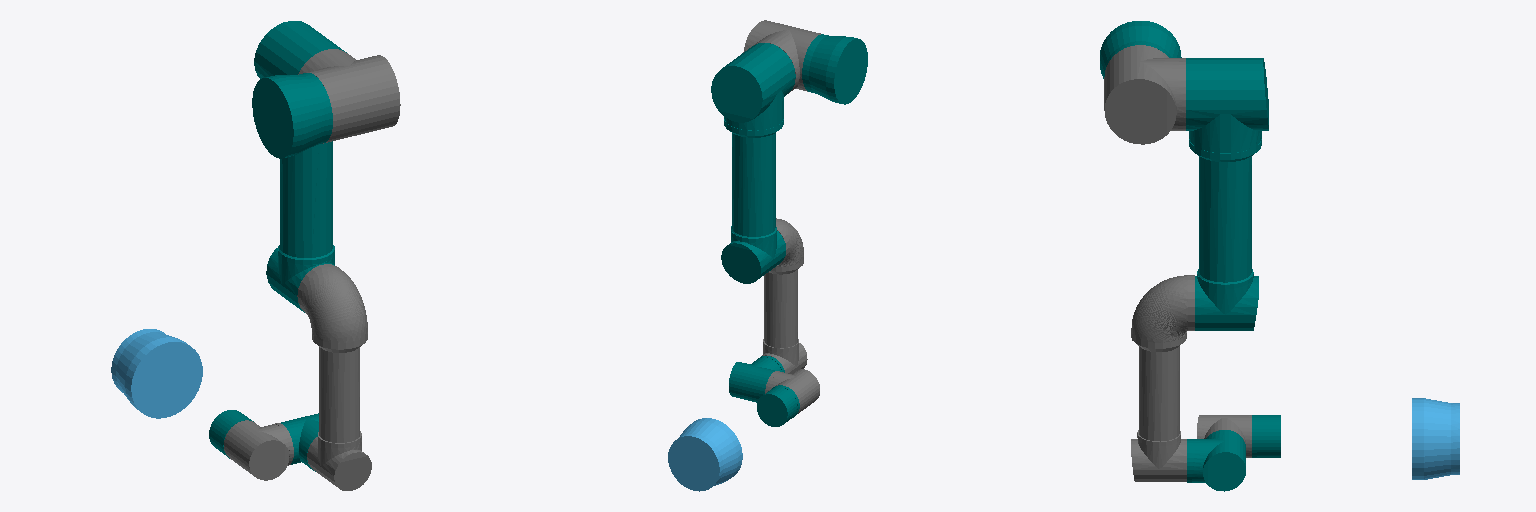
URDF robot description (or_ur):
<?xml version="1.0" ?>
<!-- =================================================================================== -->
<!-- |    This document was autogenerated by xacro from ur16_bosch_openrave.xacro      | -->
<!-- |    EDITING THIS FILE BY HAND IS NOT RECOMMENDED                                 | -->
<!-- =================================================================================== -->
<robot name="or_ur"
  xmlns:xacro="http://ros.org/wiki/xacro">
  <gazebo>
    <plugin filename="libgazebo_ros_control.so" name="ros_control">
      <!--robotNamespace>/</robotNamespace-->
      <!--robotSimType>gazebo_ros_control/DefaultRobotHWSim</robotSimType-->
    </plugin>
    <!--
    <plugin name="gazebo_ros_power_monitor_controller" filename="libgazebo_ros_power_monitor.so">
      <alwaysOn>true</alwaysOn>
      <updateRate>1.0</updateRate>
      <timeout>5</timeout>
      <powerStateTopic>power_state</powerStateTopic>
      <powerStateRate>10.0</powerStateRate>
      <fullChargeCapacity>87.78</fullChargeCapacity>     
      <dischargeRate>-474</dischargeRate>
      <chargeRate>525</chargeRate>
      <dischargeVoltage>15.52</dischargeVoltage>
      <chargeVoltage>16.41</chargeVoltage>
    </plugin>
-->
  </gazebo>
  <link name="chisel_base_link">
    <inertial>
      <origin rpy="0 0 0" xyz="1.1489E-34 -1.646E-16 0.046885"/>
      <mass value="5.438"/>
      <inertia ixx="0.013275" ixy="8.9258E-35" ixz="3.0589E-20" iyy="0.013275" iyz="-1.5807E-17" izz="0.017725"/>
    </inertial>
    <visual>
      <origin rpy="0 0 0" xyz="0 0 0"/>
      <geometry>
        <mesh filename="package://ur16e_description/meshes/base_link.STL"/>
      </geometry>
      <material name="chisel_">
        <color rgba="0 0.5 0.5 1"/>
      </material>
    </visual>
    <collision>
      <origin rpy="0 0 0" xyz="0 0 0"/>
      <geometry>
        <mesh filename="package://ur16e_description/meshes/base_link.STL"/>
      </geometry>
    </collision>
  </link>
  <link name="chisel_shoulder_link">
    <inertial>
      <origin rpy="0 0 0" xyz="-1.5245E-08 0.012594 0.0014894"/>
      <mass value="9.4377"/>
      <inertia ixx="0.038911" ixy="8.8912E-10" ixz="5.0205E-09" iyy="0.034442" iyz="-0.00033385" izz="0.032728"/>
    </inertial>
    <visual>
      <origin rpy="0 0 0" xyz="0 0 -0.181"/>
      <geometry>
        <mesh filename="package://ur16e_description/meshes/shoulder_link.STL"/>
      </geometry>
      <material name="chisel_">
        <color rgba="0.5 0.5 0.5 1"/>
      </material>
    </visual>
    <collision>
      <origin rpy="0 0 0" xyz="0 0 -0.181"/>
      <geometry>
        <mesh filename="package://ur16e_description/meshes/shoulder_link.STL"/>
      </geometry>
    </collision>
  </link>
  <joint name="chisel_shoulder_pan_joint" type="revolute">
    <origin rpy="0 0 0" xyz="0 0 0.181"/>
    <parent link="chisel_base_link"/>
    <child link="chisel_shoulder_link"/>
    <axis xyz="0 0 1"/>
    <limit effort="150.0" lower="-6.28" upper="6.28" velocity="3.14"/>
  </joint>
  <link name="chisel_upper_arm_link">
    <inertial>
      <origin rpy="0 0 0" xyz="-1.3872E-08 0.00081804 0.18812"/>
      <mass value="22.37"/>
      <inertia ixx="0.78628" ixy="3.8039E-08" ixz="9.7631E-08" iyy="0.77849" iyz="0.002245" izz="0.058581"/>
    </inertial>
    <visual>
      <origin rpy="0 0 0" xyz="0 -0.176 -0.181"/>
      <geometry>
        <mesh filename="package://ur16e_description/meshes/upper_arm_link.STL"/>
      </geometry>
      <material name="chisel_">
        <color rgba="0 0.5 0.5 1"/>
      </material>
    </visual>
    <collision>
      <origin rpy="0 0 0" xyz="0 -0.176 -0.181"/>
      <geometry>
        <mesh filename="package://ur16e_description/meshes/upper_arm_link.STL"/>
      </geometry>
    </collision>
  </link>
  <joint name="chisel_shoulder_lift_joint" type="revolute">
    <origin rpy="0 1.5708 0" xyz="0 0.176 0"/>
    <!-- edited to fix 0 deg config, was 0 0 0  -->
    <parent link="chisel_shoulder_link"/>
    <child link="chisel_upper_arm_link"/>
    <axis xyz="0 1 0"/>
    <limit effort="150.0" lower="-6.28" upper="6.28" velocity="3.14"/>
  </joint>
  <link name="chisel_forearm_link">
    <inertial>
      <origin rpy="0 0 0" xyz="-1.2814E-07 0.0067539 0.16344"/>
      <mass value="9.3652"/>
      <inertia ixx="0.18612" ixy="5.431E-07" ixz="-2.0071E-07" iyy="0.18373" iyz="0.0098497" izz="0.014157"/>
    </inertial>
    <visual>
      <origin rpy="0 0 0" xyz="0 -0.0388 -0.6605"/>
      <geometry>
        <mesh filename="package://ur16e_description/meshes/lower_arm_link.STL"/>
      </geometry>
      <material name="chisel_">
        <color rgba="0.5 0.5 0.5 1"/>
      </material>
    </visual>
    <collision>
      <origin rpy="0 0 0" xyz="0 -0.0388 -0.6605"/>
      <geometry>
        <mesh filename="package://ur16e_description/meshes/lower_arm_link.STL"/>
      </geometry>
    </collision>
  </link>
  <joint name="chisel_elbow_joint" type="revolute">
    <origin rpy="0 0 0" xyz="0 -0.1372 0.4784"/>
    <parent link="chisel_upper_arm_link"/>
    <child link="chisel_forearm_link"/>
    <axis xyz="0 1 0"/>
    <limit effort="150.0" lower="-6.28" upper="6.28" velocity="3.14"/>
  </joint>
  <link name="chisel_wrist_1_link">
    <inertial>
      <origin rpy="0 0 0" xyz="-5.602E-08 0.11949 0.0011483"/>
      <mass value="2.5949"/>
      <inertia ixx="0.0050155" ixy="-6.6962E-10" ixz="-6.2086E-09" iyy="0.0036588" iyz="-0.00010442" izz="0.0041213"/>
    </inertial>
    <visual>
      <origin rpy="0 0 0" xyz="0 -0.0388 -1.0194"/>
      <geometry>
        <mesh filename="package://ur16e_description/meshes/wrist_1_link.STL"/>
      </geometry>
      <material name="chisel_">
        <color rgba="0 0.5 0.5 1"/>
      </material>
    </visual>
    <collision>
      <origin rpy="0 0 0" xyz="0 -0.0388 -1.0194"/>
      <geometry>
        <mesh filename="package://ur16e_description/meshes/wrist_1_link.STL"/>
      </geometry>
    </collision>
  </link>
  <joint name="chisel_wrist_1_joint" type="revolute">
    <origin rpy="0 1.5708 0" xyz="0 0 0.36"/>
    <!-- edited to fix 0 deg config, was 0 0 0  -->
    <parent link="chisel_forearm_link"/>
    <child link="chisel_wrist_1_link"/>
    <axis xyz="0 1 0"/>
    <limit effort="150.0" lower="-6.28" upper="6.28" velocity="3.14"/>
  </joint>
  <link name="chisel_wrist_2_link">
    <inertial>
      <origin rpy="0 0 0" xyz="4.6306E-08 0.0012823 0.1101"/>
      <mass value="2.3235"/>
      <inertia ixx="0.0039588" ixy="6.2628E-09" ixz="1.2947E-09" iyy="0.003065" iyz="-8.5307E-05" izz="0.0033836"/>
    </inertial>
    <visual>
      <origin rpy="0 0 0" xyz="0 -0.17415 -1.0194"/>
      <geometry>
        <mesh filename="package://ur16e_description/meshes/wrist_2_link.STL"/>
      </geometry>
      <material name="chisel_">
        <color rgba="0.5 0.5 0.5 1"/>
      </material>
    </visual>
    <collision>
      <origin rpy="0 0 0" xyz="0 -0.17415 -1.0194"/>
      <geometry>
        <mesh filename="package://ur16e_description/meshes/wrist_2_link.STL"/>
      </geometry>
    </collision>
  </link>
  <joint name="chisel_wrist_2_joint" type="revolute">
    <origin rpy="0 0 0" xyz="0 0.13535 0"/>
    <parent link="chisel_wrist_1_link"/>
    <child link="chisel_wrist_2_link"/>
    <axis xyz="0 0 1"/>
    <limit effort="150.0" lower="-6.28" upper="6.28" velocity="3.14"/>
  </joint>
  <link name="chisel_wrist_3_link">
    <inertial>
      <origin rpy="0 0 0" xyz="-6.798E-19 0.086857 -2.2204E-16"/>
      <mass value="1.0362"/>
      <inertia ixx="0.0008397" ixy="1.6187E-21" ixz="-4.4721E-35" iyy="0.0010531" iyz="-5.841E-19" izz="0.0008397"/>
    </inertial>
    <visual>
      <origin rpy="0 0 0" xyz="0 -0.17415 -1.13895"/>
      <geometry>
        <mesh filename="package://ur16e_description/meshes/wrist_3_link.STL"/>
      </geometry>
      <material name="chisel_">
        <color rgba="0 0.5 0.5 1"/>
      </material>
    </visual>
    <collision>
      <origin rpy="0 0 0" xyz="0 -0.17415 -1.13895"/>
      <geometry>
        <mesh filename="package://ur16e_description/meshes/wrist_3_link.STL"/>
      </geometry>
    </collision>
  </link>
  <joint name="chisel_wrist_3_joint" type="revolute">
    <origin rpy="0 0 0" xyz="0 0 0.11955"/>
    <parent link="chisel_wrist_2_link"/>
    <child link="chisel_wrist_3_link"/>
    <axis xyz="0 1 0"/>
    <limit effort="150.0" lower="-6.28" upper="6.28" velocity="3.14"/>
  </joint>
  <!-- <link name="chisel_dummy_sensor_link">
    <inertial>
      <origin rpy="0 0 0" xyz="0 -0.01875 0"/>
      <mass value="0.16567"/>
      <inertia ixx="7.7658E-05" ixy="-3.0306E-37" ixz="6.3554E-37" iyy="0.00011649" iyz="0" izz="7.7658E-05"/>
    </inertial>
    <visual>
      <origin rpy="0 0 0" xyz="0 -0.32865 -1.13895"/>
      <geometry>
        <mesh filename="package://ur16e_description/meshes/dummy_sensor_link.STL"/>
      </geometry>
      <material name="chisel_">
        <color rgba="0.7 0 0 1"/>
      </material>
    </visual>
    <collision>
      <origin rpy="0 0 0" xyz="0 -0.32865 -1.13895"/>
      <geometry>
        <mesh filename="package://ur16e_description/meshes/dummy_sensor_link.STL"/>
      </geometry>
    </collision>
  </link>
  <joint name="chisel_sensor_mount_fixed" type="fixed">
    <origin rpy="0 0 0" xyz="0 0.1545 0"/>
    <parent link="chisel_wrist_3_link"/>
    <child link="chisel_dummy_sensor_link"/>
    <axis xyz="0 1 0"/>
  </joint> -->
  <link name="chisel_tool0">
    <inertial>
      <origin rpy="0 0 0" xyz="0 -0.01875 0"/>
      <mass value="0.1"/>
      <inertia ixx="1.1E-05" ixy="-3.0306E-37" ixz="6.3554E-37" iyy="1.1E-05" iyz="0" izz="1.1E-05"/>
    </inertial>
  </link>
  <joint name="chisel_wrist_3_link-tool0_fixed_joint" type="fixed">
    <!-- <origin rpy="-1.57079632679 0 0" xyz="0 0.1545 0"/> -->
    <origin rpy="-1.57079632679 0 0" xyz="0 0.1545 0"/>
    <parent link="chisel_wrist_3_link"/>
    <child link="chisel_tool0"/>
  </joint>
  <transmission name="chisel_shoulder_pan_trans">
    <type>transmission_interface/SimpleTransmission</type>
    <joint name="chisel_shoulder_pan_joint">
      <hardwareInterface>hardware_interface/PositionJointInterface</hardwareInterface>
    </joint>
    <actuator name="chisel_shoulder_pan_motor">
      <mechanicalReduction>1</mechanicalReduction>
    </actuator>
  </transmission>
  <transmission name="chisel_shoulder_lift_trans">
    <type>transmission_interface/SimpleTransmission</type>
    <joint name="chisel_shoulder_lift_joint">
      <hardwareInterface>hardware_interface/PositionJointInterface</hardwareInterface>
    </joint>
    <actuator name="chisel_shoulder_lift_motor">
      <mechanicalReduction>1</mechanicalReduction>
    </actuator>
  </transmission>
  <transmission name="chisel_elbow_trans">
    <type>transmission_interface/SimpleTransmission</type>
    <joint name="chisel_elbow_joint">
      <hardwareInterface>hardware_interface/PositionJointInterface</hardwareInterface>
    </joint>
    <actuator name="chisel_elbow_motor">
      <mechanicalReduction>1</mechanicalReduction>
    </actuator>
  </transmission>
  <transmission name="chisel_wrist_1_trans">
    <type>transmission_interface/SimpleTransmission</type>
    <joint name="chisel_wrist_1_joint">
      <hardwareInterface>hardware_interface/PositionJointInterface</hardwareInterface>
    </joint>
    <actuator name="chisel_wrist_1_motor">
      <mechanicalReduction>1</mechanicalReduction>
    </actuator>
  </transmission>
  <transmission name="chisel_wrist_2_trans">
    <type>transmission_interface/SimpleTransmission</type>
    <joint name="chisel_wrist_2_joint">
      <hardwareInterface>hardware_interface/PositionJointInterface</hardwareInterface>
    </joint>
    <actuator name="chisel_wrist_2_motor">
      <mechanicalReduction>1</mechanicalReduction>
    </actuator>
  </transmission>
  <transmission name="chisel_wrist_3_trans">
    <type>transmission_interface/SimpleTransmission</type>
    <joint name="chisel_wrist_3_joint">
      <hardwareInterface>hardware_interface/PositionJointInterface</hardwareInterface>
    </joint>
    <actuator name="chisel_wrist_3_motor">
      <mechanicalReduction>1</mechanicalReduction>
    </actuator>
  </transmission>
  <gazebo reference="chisel_shoulder_link">
    <selfCollide>true</selfCollide>
  </gazebo>
  <gazebo reference="chisel_upper_arm_link">
    <selfCollide>true</selfCollide>
  </gazebo>
  <gazebo reference="chisel_forearm_link">
    <selfCollide>true</selfCollide>
  </gazebo>
  <gazebo reference="chisel_wrist_1_link">
    <selfCollide>true</selfCollide>
  </gazebo>
  <gazebo reference="chisel_wrist_3_link">
    <selfCollide>true</selfCollide>
  </gazebo>
  <gazebo reference="chisel_wrist_2_link">
    <selfCollide>true</selfCollide>
  </gazebo>
  <gazebo reference="chisel_ee_link">
    <selfCollide>true</selfCollide>
  </gazebo>
  <!-- ROS base_link to UR 'Base' Coordinates transform -->
  <link name="chisel_base"/>
  <joint name="chisel_base_link-base_fixed_joint" type="fixed">
    <!-- NOTE: this rotation is only needed as long as base_link itself is
                not corrected wrt the real robot (ie: rotated over 180
                degrees)
    -->
    <origin rpy="0.0 1.5707963267948966 0.0" xyz="0 0 0"/>

    <parent link="chisel_base"/>
    <child link="chisel_base_link"/>
  </joint>
  <!-- attach to tool0  directions: z-pointed towards tool tip, y is "up", x is "out"-->
  <!-- <joint name="chisel_makita_fixed_joint" type="fixed">
    <parent link="chisel_tool0"/>
    <child link="chisel_makita_link"/> -->
  <!-- <origin xyz="0.0 0.0 0.0" rpy="1.57 0.0 3.14" /> -->
  <!-- </joint> -->
  <!-- <link name="chisel_makita_link">
    <visual name="visual">
      <geometry>
        <mesh filename="package://bot_digger_description/meshes/20210408Bosch_top45camera.STL"/>
      </geometry>
      <origin rpy="0.0 0 0.0" xyz="0 0.0 0.0"/>
    </visual>
    <collision>
      <geometry>
        <mesh filename="package://bot_digger_description/meshes/20210408Bosch_top45camera.STL"/>
      </geometry>
      <origin rpy="0.0 0 0.0" xyz="0.0 0.0 0.0"/>
    </collision>
  </link> -->

  <link name="chisel_chisel_link">
    <inertial>
      <mass value="12.6"/>
      <origin rpy="0 0 0" xyz="0.0 0.0 0.0"/>
      <inertia ixx="0.38" ixy="0.0" ixz="0.0" iyy="0.35" iyz="-0.02" izz="0.05"/>
    </inertial>
    <visual name="visual">
      <geometry>
        <mesh filename="package://ur16e_description/meshes/base_link.STL"/>
      </geometry>
      <origin rpy="0 0 0" xyz="0 0 0"/>
    </visual>
    <collision>
      <geometry>
        <mesh filename="package://ur16e_description/meshes/base_link.STL"/>
      </geometry>
      <origin rpy="0 0 0" xyz="0 0 0"/>
    </collision>

  </link>
  <joint name="chisel_chisel_fixed_joint" type="fixed">
    <parent link="chisel_tool0"/>
    <child link="chisel_chisel_link"/>
    <origin rpy="0.0 0.0 0" xyz="0.0 0.013 0.235"/>
  </joint>

  <!-- 
  <joint name="chisel_rock_fixed_joint" type="fixed">
    <parent link="chisel_chisel_link"/>
    <child link="chisel_rock_link"/>
    <origin rpy="0.0 0.0 0" xyz="0.0 0.0 0.1"/>
  </joint>
  <link name="chisel_rock_link">
    <visual name="visual">
      <geometry>
        <cylinder length="0.28" radius="0.015"/>
      </geometry>
      <material name="LightGrey">
        <color rgba="0.7 0.7 0.7 1.0"/>
      </material>
      <origin rpy="0 0 0" xyz="0 0 0.12"/>
    </visual>
    <collision>
      <geometry>
        <cylinder length="0.28" radius="0.015"/>
      </geometry>
      <origin rpy="0 0 0" xyz="0 0 0.12"/>
    </collision>
    <inertial>
      <mass value="30.0"/>
      <origin rpy="0 0 0" xyz="0.0 0.0 0.12"/>
      <inertia ixx="1.0" ixy="0.0" ixz="0.0" iyy="1.0" iyz="0.0" izz="1.0"/>
    </inertial>
  </link> -->

  <joint name="chisel_tip_fixed_joint" type="fixed">
    <parent link="chisel_chisel_link"/>
    <child link="chisel_tip_link"/>
    <origin rpy="0.0 0.0 0" xyz="0 -0.013 0.576"/>
  </joint>
  <!-- frame directions: z along rotation axis, x out top of drill, y out side of drill -->
  <link name="chisel_tip_link">
    <inertial>
      <mass value="0.1"/>
      <origin rpy="0 0 0" xyz="0.0 0.0 0.0"/>
      <inertia ixx="0.01" ixy="0.0" ixz="0.0" iyy="0.01" iyz="0.0" izz="0.01"/>
    </inertial>
    <collision>
      <geometry>
        <box size="0.01 0.01 0.01"/>
      </geometry>
      <origin rpy="0 0 0" xyz="0 0 0.0"/>
    </collision>
  </link>
  <!-- </xacro:macro> -->
</robot>

--- Facts derived from the render (not from the file) ---
Views: 3 orthographic renders of the robot side by side, from view 1: azimuth 30°, elevation 25°; view 2: azimuth 150°, elevation 25°; view 3: azimuth 270°, elevation 25°.
Model or_ur with 11 links and 10 joints (6 revolute, 4 fixed), rooted at chisel_base, posed all joints at 0.
Links seen in each view (by area): view 1: chisel_forearm_link, chisel_upper_arm_link, chisel_chisel_link, chisel_shoulder_link, chisel_base_link, chisel_wrist_2_link, chisel_wrist_1_link, chisel_wrist_3_link; view 2: chisel_upper_arm_link, chisel_forearm_link, chisel_chisel_link, chisel_base_link, chisel_shoulder_link, chisel_wrist_1_link, chisel_wrist_3_link, chisel_wrist_2_link; view 3: chisel_upper_arm_link, chisel_forearm_link, chisel_shoulder_link, chisel_chisel_link, chisel_wrist_1_link, chisel_base_link, chisel_wrist_3_link, chisel_wrist_2_link.
Link boxes in pixels (left/top/right/bottom): chisel_forearm_link: left=297, top=264, right=371, bottom=490; chisel_upper_arm_link: left=254, top=21, right=346, bottom=312; chisel_chisel_link: left=111, top=329, right=202, bottom=418; chisel_shoulder_link: left=298, top=49, right=400, bottom=143; chisel_base_link: left=252, top=73, right=332, bottom=158; chisel_wrist_2_link: left=224, top=420, right=293, bottom=480; chisel_wrist_1_link: left=281, top=413, right=318, bottom=471; chisel_wrist_3_link: left=209, top=410, right=253, bottom=458; chisel_upper_arm_link: left=711, top=43, right=795, bottom=283; chisel_forearm_link: left=762, top=218, right=807, bottom=373; chisel_chisel_link: left=668, top=418, right=742, bottom=491; chisel_base_link: left=802, top=34, right=867, bottom=104; chisel_shoulder_link: left=743, top=20, right=820, bottom=93; chisel_wrist_1_link: left=729, top=356, right=784, bottom=402; chisel_wrist_3_link: left=757, top=385, right=799, bottom=426; chisel_wrist_2_link: left=765, top=369, right=819, bottom=413; chisel_upper_arm_link: left=1186, top=58, right=1268, bottom=330; chisel_forearm_link: left=1131, top=275, right=1194, bottom=481; chisel_shoulder_link: left=1104, top=45, right=1185, bottom=144; chisel_chisel_link: left=1412, top=398, right=1459, bottom=479; chisel_wrist_1_link: left=1187, top=430, right=1245, bottom=491; chisel_base_link: left=1100, top=21, right=1181, bottom=78; chisel_wrist_3_link: left=1252, top=415, right=1280, bottom=457; chisel_wrist_2_link: left=1197, top=415, right=1251, bottom=457.
Size in the robot's own frame: 0.2815 by 0.7476 by 1.01 metres.
8 mesh visuals loaded from 7 distinct referenced files (7 binary STL).
